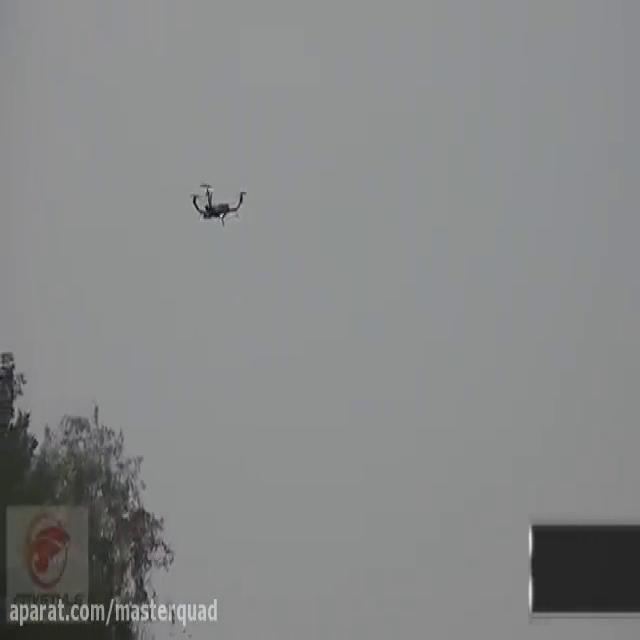drone: (189, 172, 250, 233)
